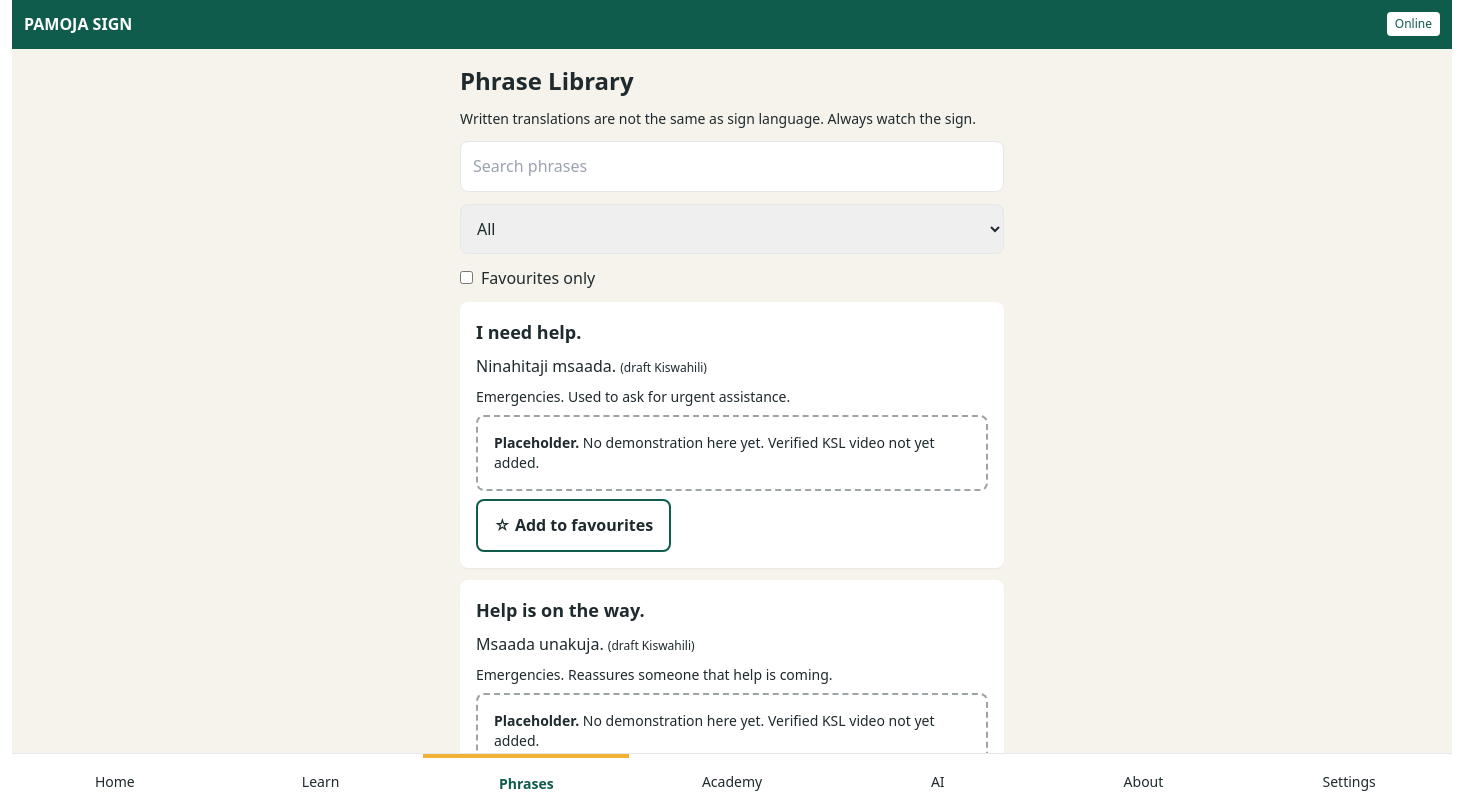
Test case: saves favourites and restores them after reload
This screenshot has width=1464, height=810.
Earlier steps of the test are not shown.
Click the button with aria-label "Phrase Library": (526, 782) [423, 754, 629, 809]
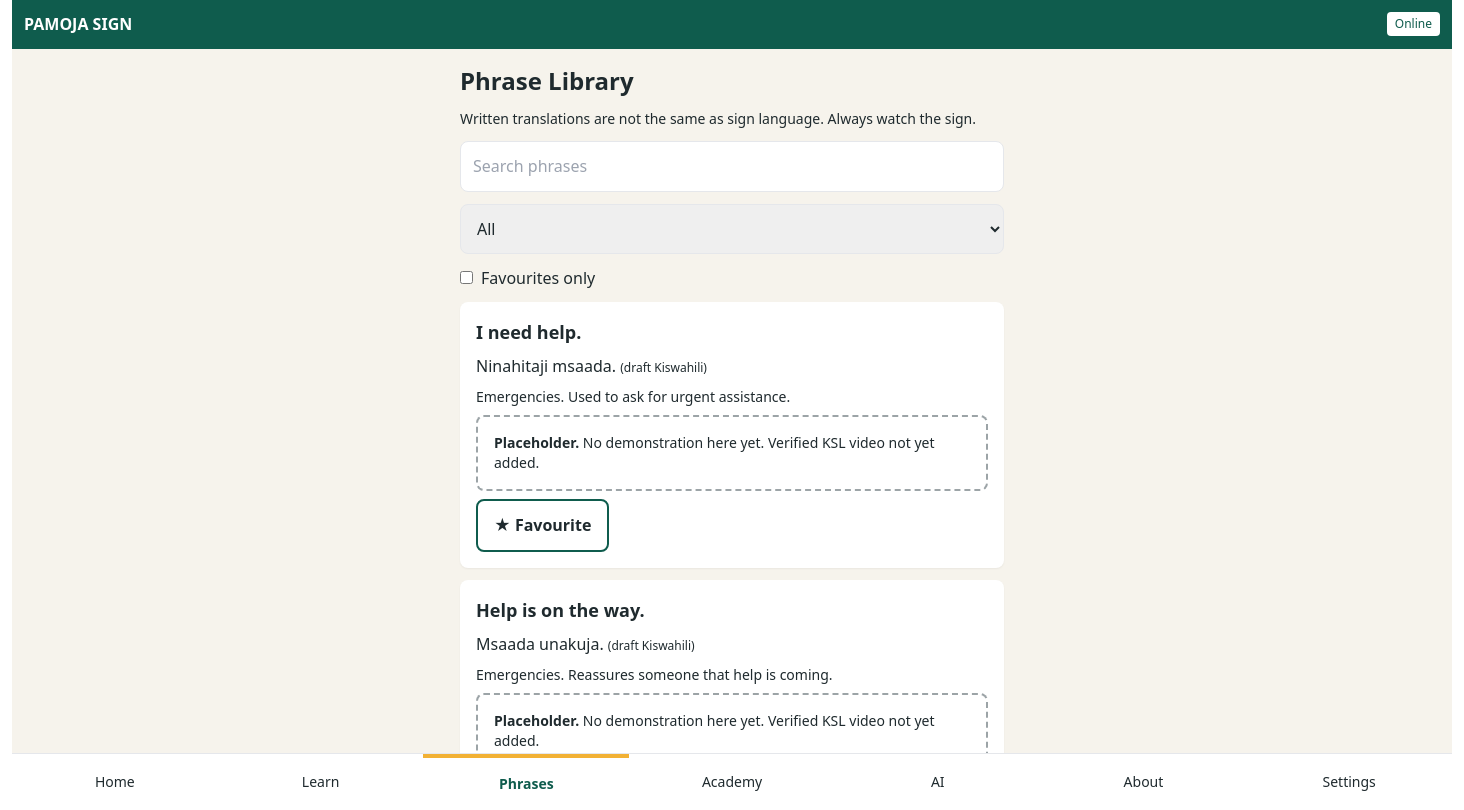
Check: the button "★ Favourite" is shown, box [476, 499, 609, 552]
